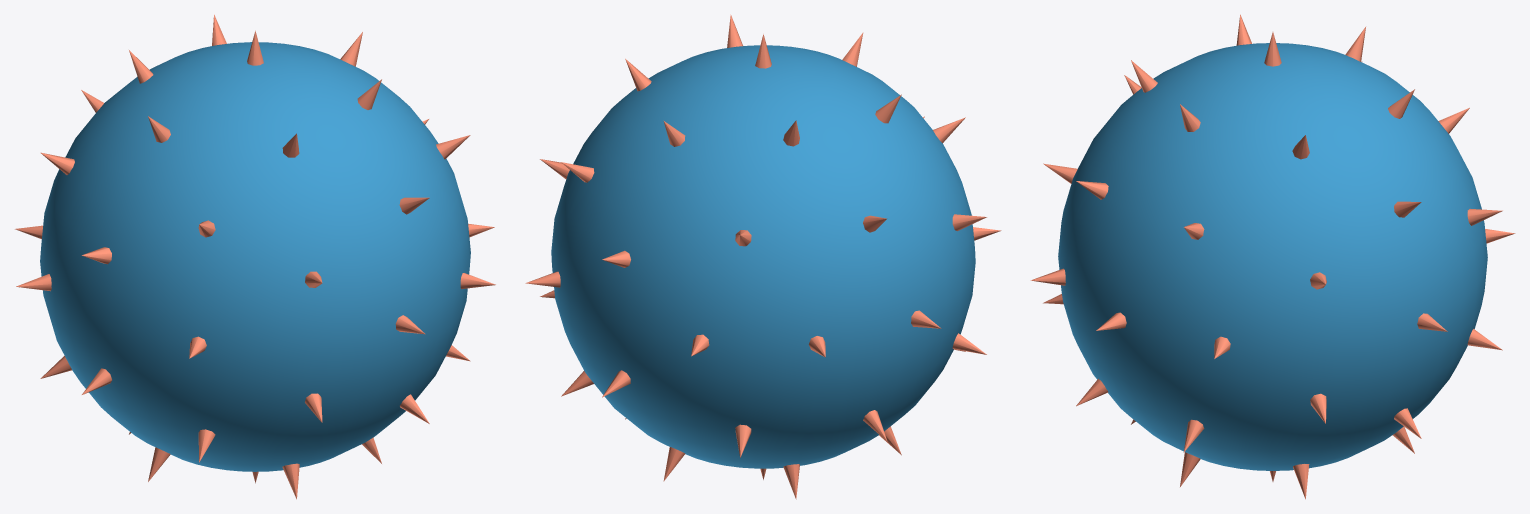
The model's file is rotavirus.glb.
The picture shows the model from 3 angles, left to right: view 1: azimuth 30°, elevation 25°; view 2: azimuth 150°, elevation 25°; view 3: azimuth 270°, elevation 25°; orthographic projection.
Parts seen in each view (by area): view 1: tamanho; view 2: tamanho; view 3: tamanho.
Boxes of the visible parts, x1,y1,x2,y2 form: tamanho: (15,14,495,499); tamanho: (525,14,1001,499); tamanho: (1030,14,1515,499).
Size of the model in its own units: 0.3887 by 0.4 by 0.3899.
